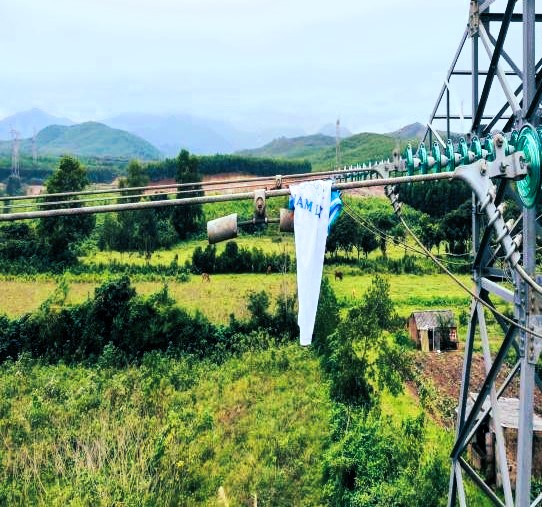wire foreign body: (273, 166, 349, 355)
